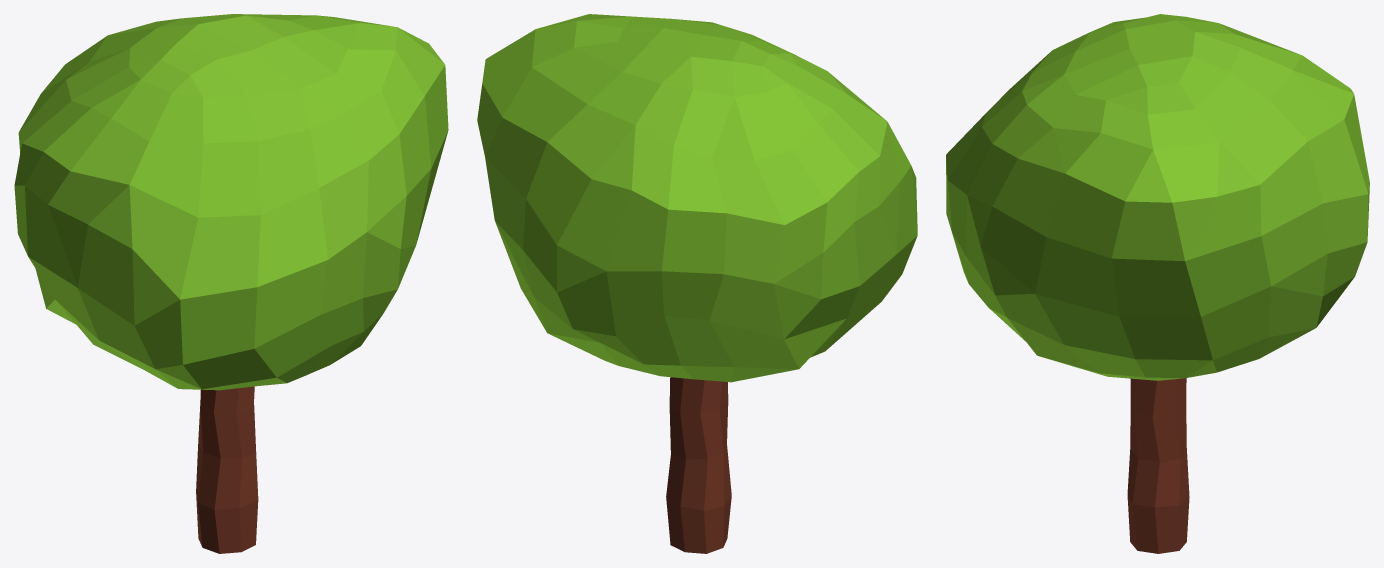
The model's file is maya_export_Tree3_v1.fbx.
The picture shows the model from 3 angles, left to right: view 1: azimuth 30°, elevation 25°; view 2: azimuth 150°, elevation 25°; view 3: azimuth 270°, elevation 25°; orthographic projection.
Parts seen in each view (by area): view 1: Tree3_v1; view 2: Tree3_v1; view 3: Tree3_v1.
Boxes of the visible parts, bbox=[...] form: Tree3_v1: bbox=[14, 14, 448, 553]; Tree3_v1: bbox=[477, 14, 917, 553]; Tree3_v1: bbox=[946, 14, 1369, 553].
Bounding box in the file's own units: 5.97 × 7.38 × 5.61.
1 material, 1 textured.
